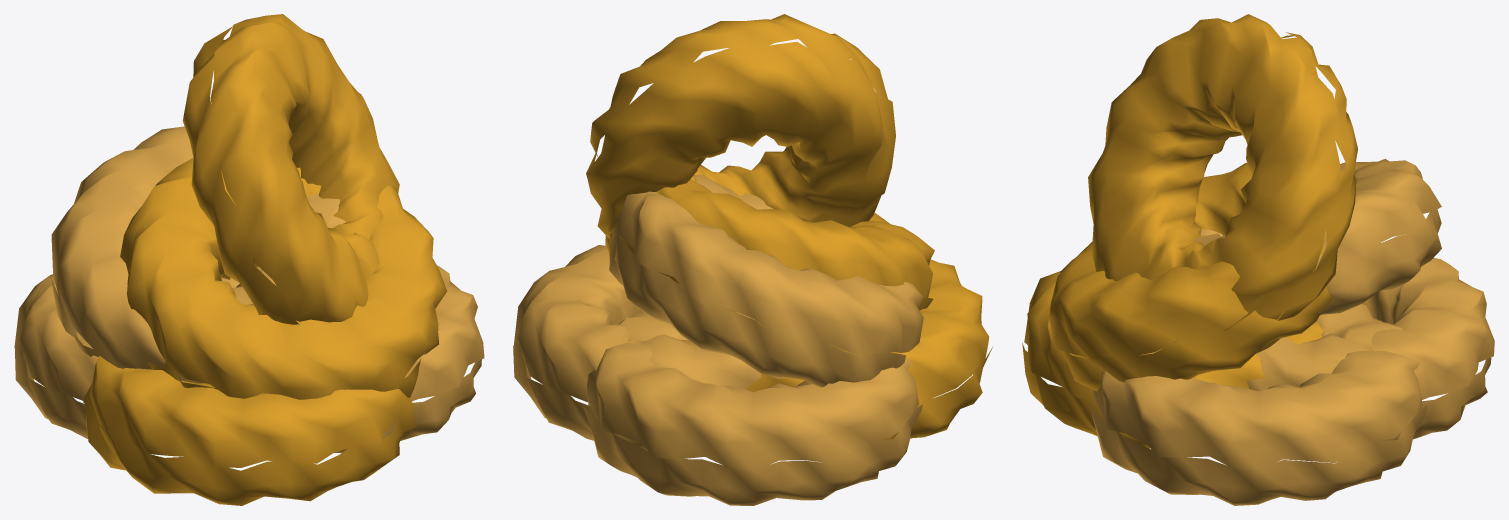
File: onion-rings.glb
The picture shows the model from 3 angles, left to right: view 1: azimuth 30°, elevation 25°; view 2: azimuth 150°, elevation 25°; view 3: azimuth 270°, elevation 25°; orthographic projection.
Visible parts, largest first — view 1: onion-rings; view 2: onion-rings; view 3: onion-rings.
Part boxes in pixels (box(x1,y1,x2,y2)): onion-rings: box(14, 14, 484, 505); onion-rings: box(513, 14, 992, 505); onion-rings: box(1022, 14, 1494, 505).
Bounding box in the file's own units: 0.0851 × 0.08 × 0.0874.
